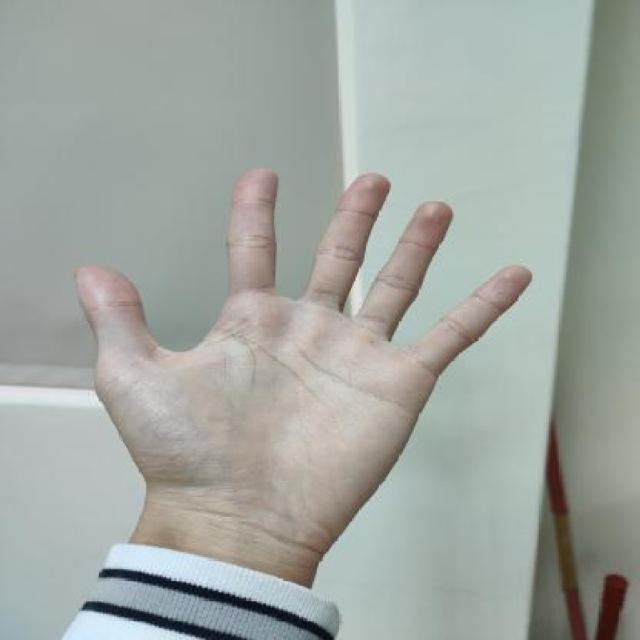no_glove: (62, 150, 538, 592)
